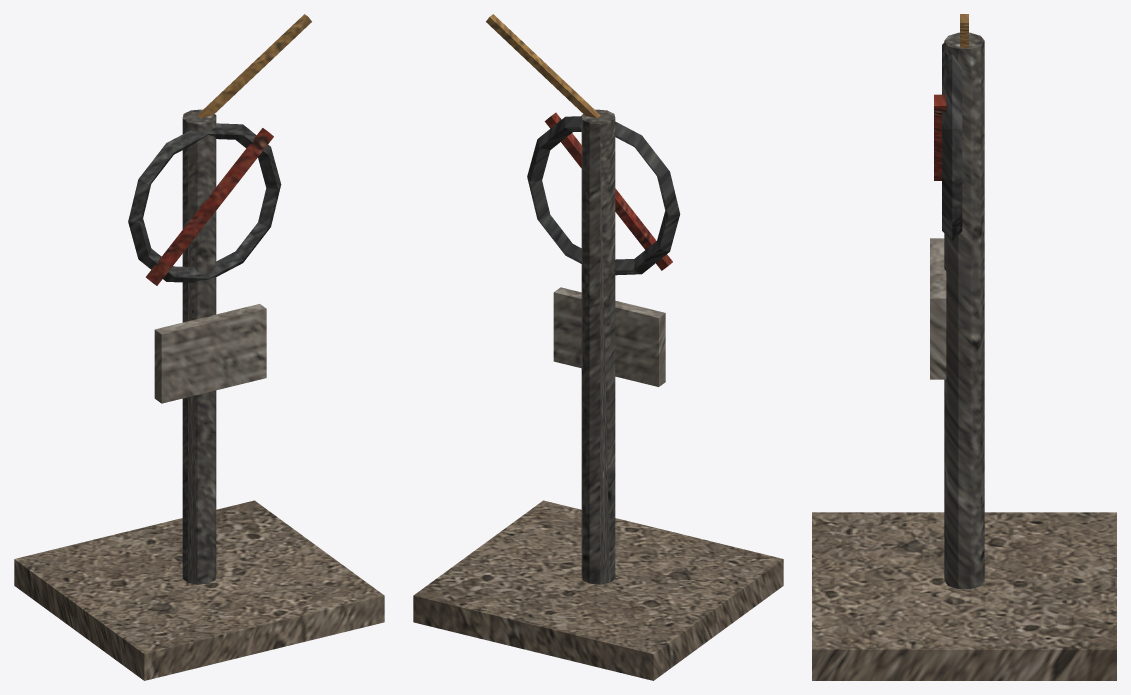
Rendered from west-comms-shadow-marker.glb.
3 views of the same model, side by side, from view 1: azimuth 30°, elevation 25°; view 2: azimuth 150°, elevation 25°; view 3: azimuth 270°, elevation 25° (orthographic). The views are drawn at different scales.
Parts seen in each view (by area): view 1: west-comms-shadow-marker; view 2: west-comms-shadow-marker; view 3: west-comms-shadow-marker.
Boxes of the visible parts, <box> form: west-comms-shadow-marker: <box>14,14,384,680</box>; west-comms-shadow-marker: <box>413,14,783,680</box>; west-comms-shadow-marker: <box>812,14,1116,680</box>.
Size of the model in its own units: 3.2 by 7.16 by 3.
Materials: 1 (1 with a texture image).
